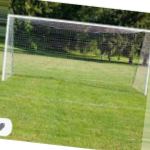goals: (2, 12, 150, 99)
